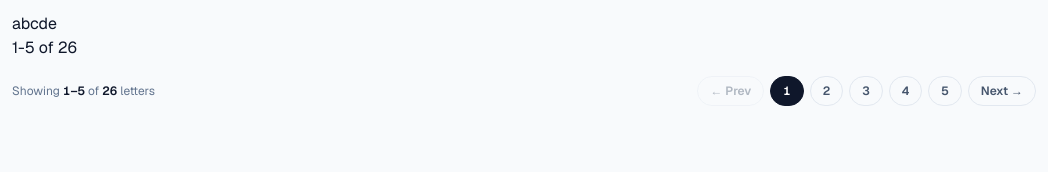
usePaged and Pager › walks forward and back a page at a time
Step 1. Click the button "Next →" → {"x": 1002, "y": 91}, box [968,76,1036,106]
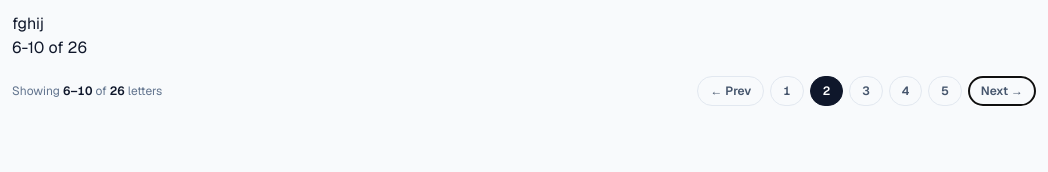
Now the text with test id "slice" reads "fghij", box [12,13,44,34]
Step 2. Click the button "← Prev" → {"x": 731, "y": 91}, box [697,76,764,106]
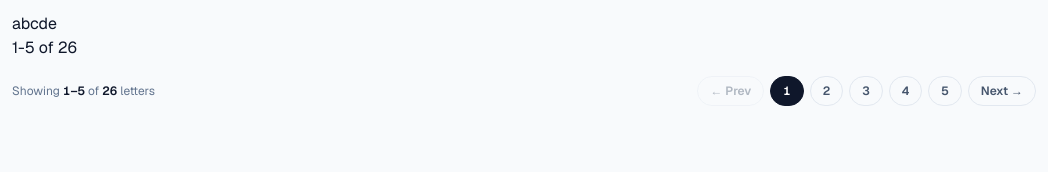
Now the text with test id "slice" reads "abcde", box [12,13,57,34]
